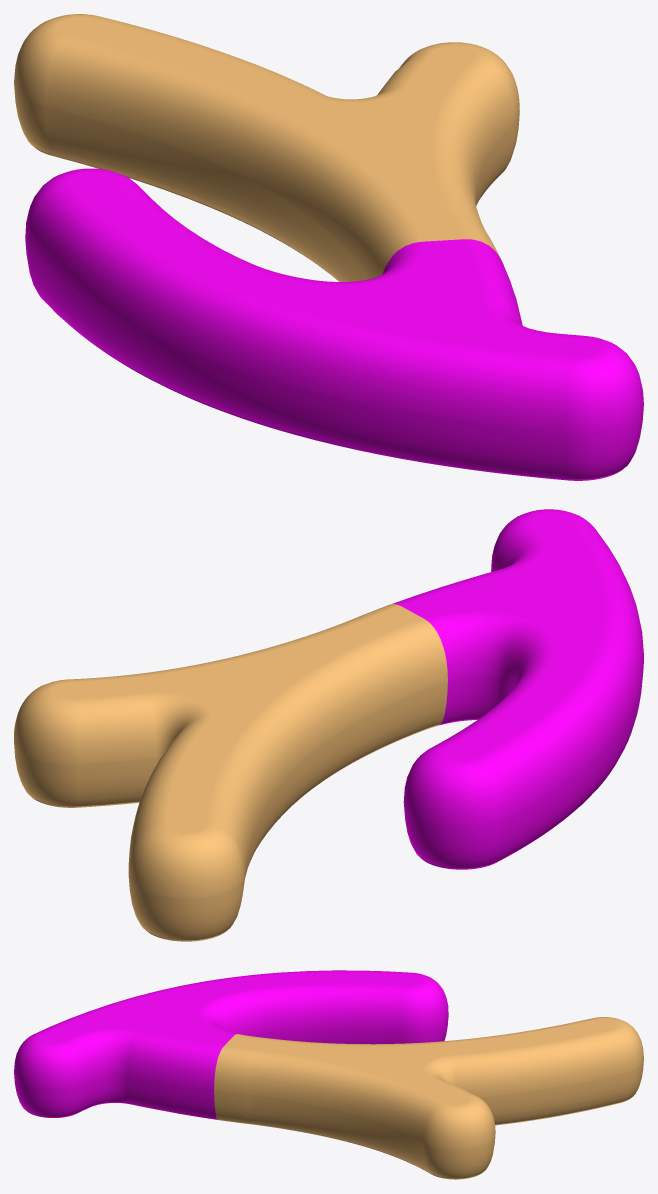
The model's file is 엔틀러2.glb.
The picture shows the model from 3 angles, top to bottom: view 1: azimuth 30°, elevation 25°; view 2: azimuth 150°, elevation 25°; view 3: azimuth 270°, elevation 25°; orthographic projection. The views are drawn at different scales.
Size of the model in its own units: 0.1015 by 0.0206 by 0.1746.
